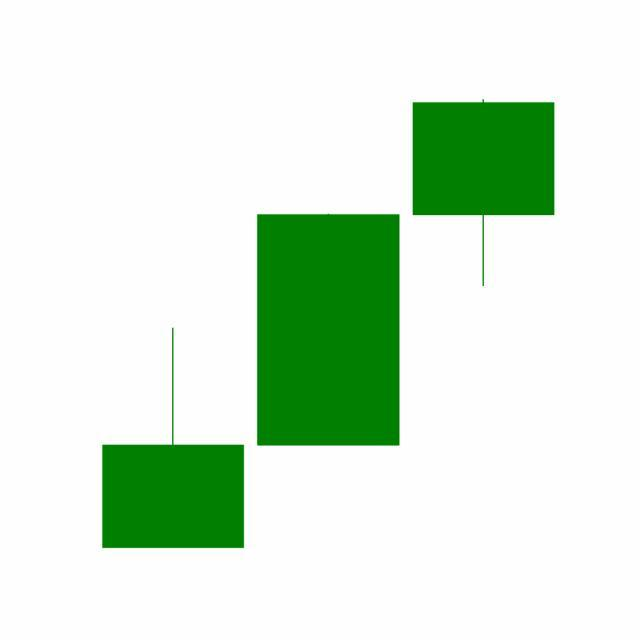Marubozu: (250, 211, 407, 448)
